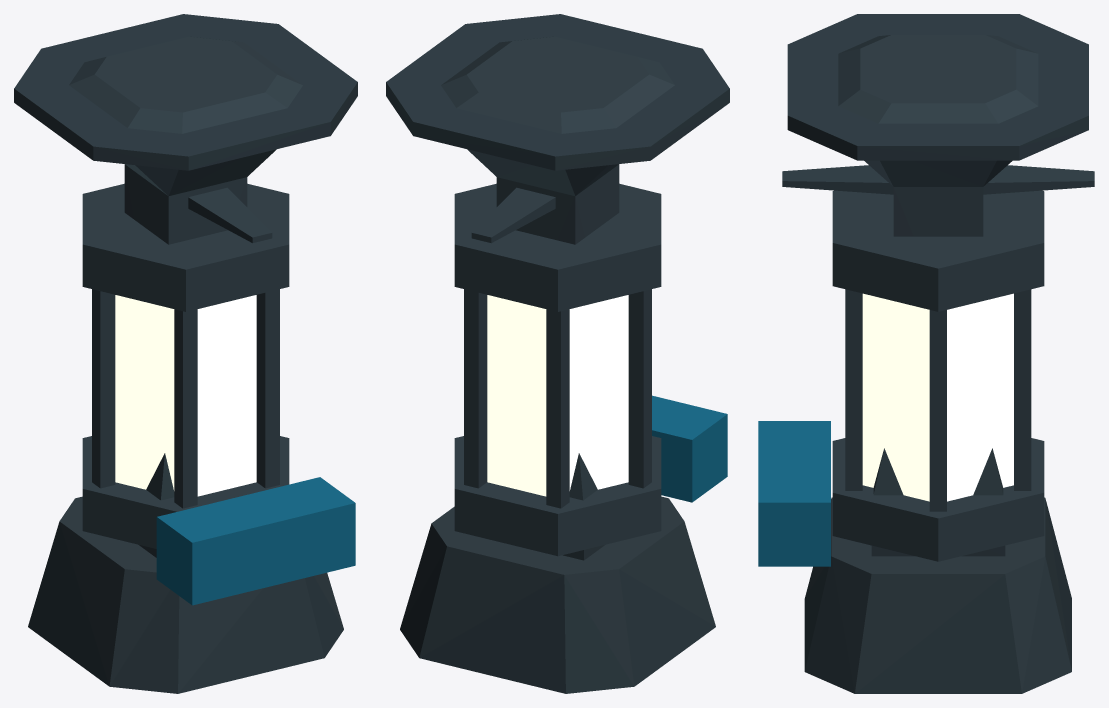
The model's file is dock-lantern-sky.glb.
The picture shows the model from 3 angles, left to right: view 1: azimuth 30°, elevation 25°; view 2: azimuth 150°, elevation 25°; view 3: azimuth 270°, elevation 25°; orthographic projection. The views are drawn at different scales.
Parts seen in each view (by area): view 1: dock-lantern-sky; view 2: dock-lantern-sky; view 3: dock-lantern-sky.
Part boxes in pixels (x1,y1,x2,y2): dock-lantern-sky: (14, 14, 357, 693); dock-lantern-sky: (386, 14, 729, 693); dock-lantern-sky: (758, 14, 1094, 693).
Size of the model in its own units: 0.34 by 0.68 by 0.3659.
